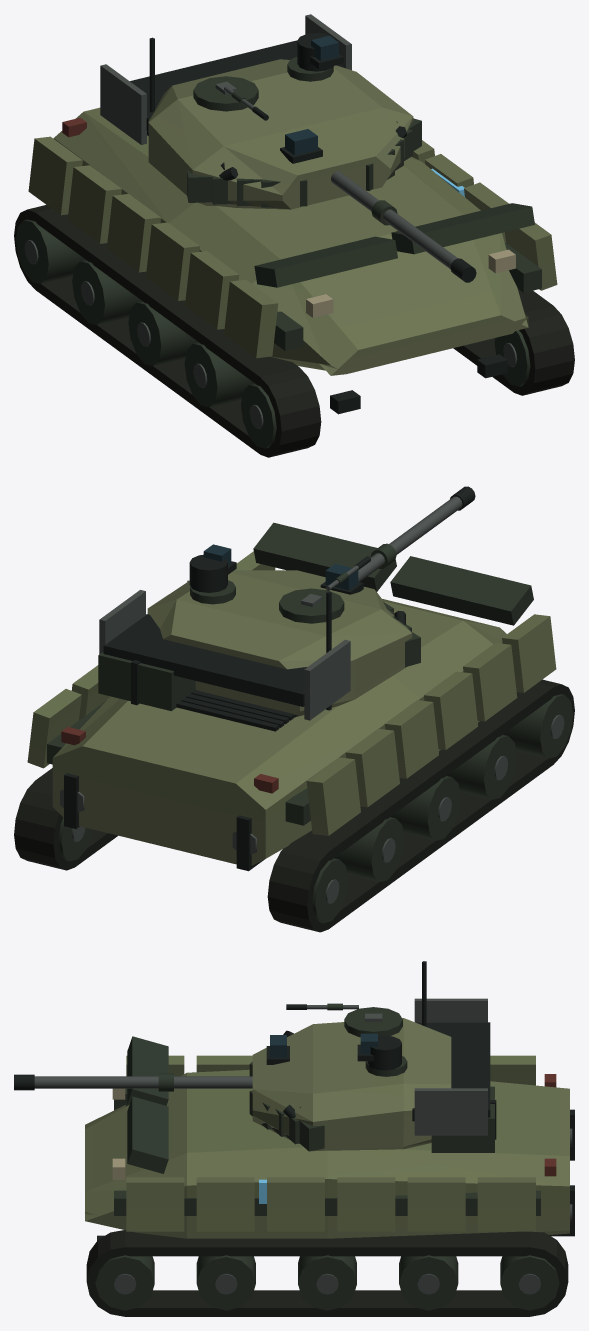
File: lightTank-lod.glb
3 views of the same model, one above another, from view 1: azimuth 30°, elevation 25°; view 2: azimuth 150°, elevation 25°; view 3: azimuth 270°, elevation 25° (orthographic). The views are drawn at different scales.
Parts seen in each view (by area): view 1: equipment (×3); view 2: equipment (×3); view 3: equipment (×3).
Part boxes in pixels (x1,y1,x2,y2): equipment (×3): (14,14,574,457); equipment (×3): (14,486,574,932); equipment (×3): (14,961,574,1316).
Bounding box in the file's own units: 2.99 × 2.63 × 5.32.
